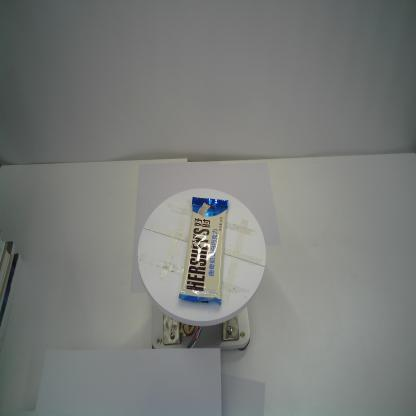Chocolate: (178, 194, 230, 308)
